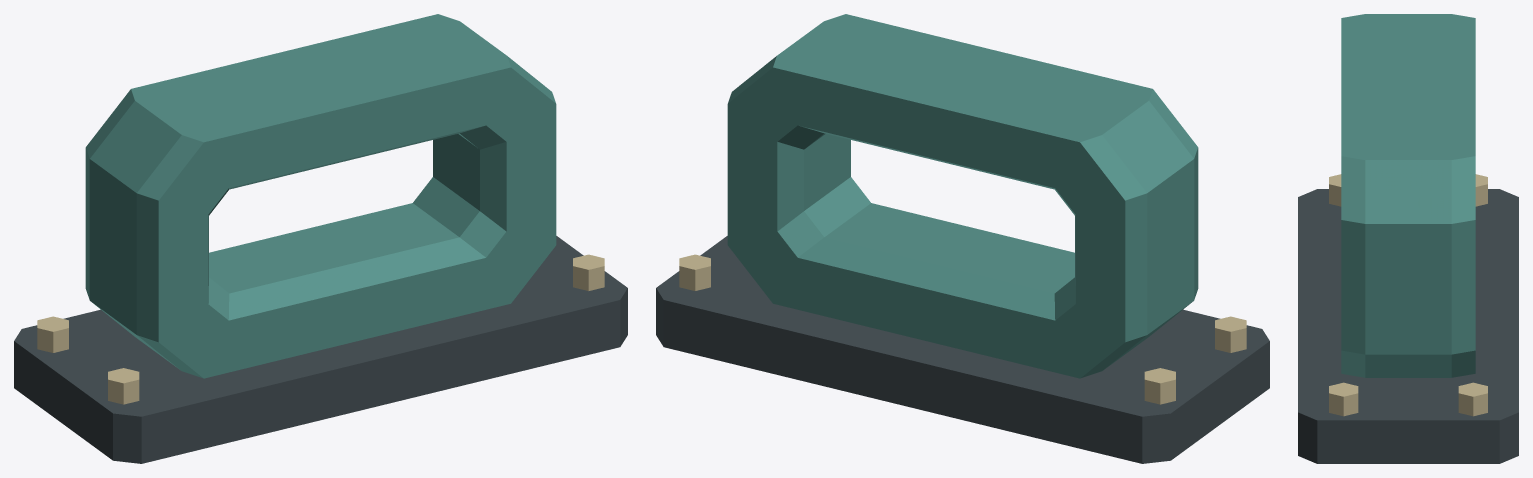
3 renders of one model, left to right at view 1: azimuth 30°, elevation 25°; view 2: azimuth 150°, elevation 25°; view 3: azimuth 270°, elevation 25°, orthographic. The views are drawn at different scales.
Parts seen in each view (by area): view 1: Continuous_FlaredThroughEye, Wide_ChamferedGroundBase, SeatedHexHead_0, SeatedHexHead_2, SeatedHexHead_1; view 2: Continuous_FlaredThroughEye, Wide_ChamferedGroundBase, SeatedHexHead_1, SeatedHexHead_3, SeatedHexHead_0; view 3: Continuous_FlaredThroughEye, Wide_ChamferedGroundBase, SeatedHexHead_2, SeatedHexHead_3, SeatedHexHead_0, SeatedHexHead_1.
Part boxes in pixels (bbox=[...]): Continuous_FlaredThroughEye: bbox=[85, 14, 556, 378]; Wide_ChamferedGroundBase: bbox=[14, 236, 627, 463]; SeatedHexHead_0: bbox=[108, 368, 139, 404]; SeatedHexHead_2: bbox=[573, 254, 604, 290]; SeatedHexHead_1: bbox=[37, 316, 68, 352]; Continuous_FlaredThroughEye: bbox=[727, 14, 1198, 378]; Wide_ChamferedGroundBase: bbox=[656, 236, 1269, 463]; SeatedHexHead_1: bbox=[1144, 368, 1175, 404]; SeatedHexHead_3: bbox=[679, 254, 710, 290]; SeatedHexHead_0: bbox=[1215, 316, 1246, 352]; Continuous_FlaredThroughEye: bbox=[1341, 14, 1475, 377]; Wide_ChamferedGroundBase: bbox=[1298, 189, 1518, 463]; SeatedHexHead_2: bbox=[1329, 382, 1358, 416]; SeatedHexHead_3: bbox=[1458, 382, 1487, 416]; SeatedHexHead_0: bbox=[1329, 174, 1341, 206]; SeatedHexHead_1: bbox=[1475, 174, 1487, 206].
Size of the model in its own units: 1.14 by 0.6 by 0.46.
